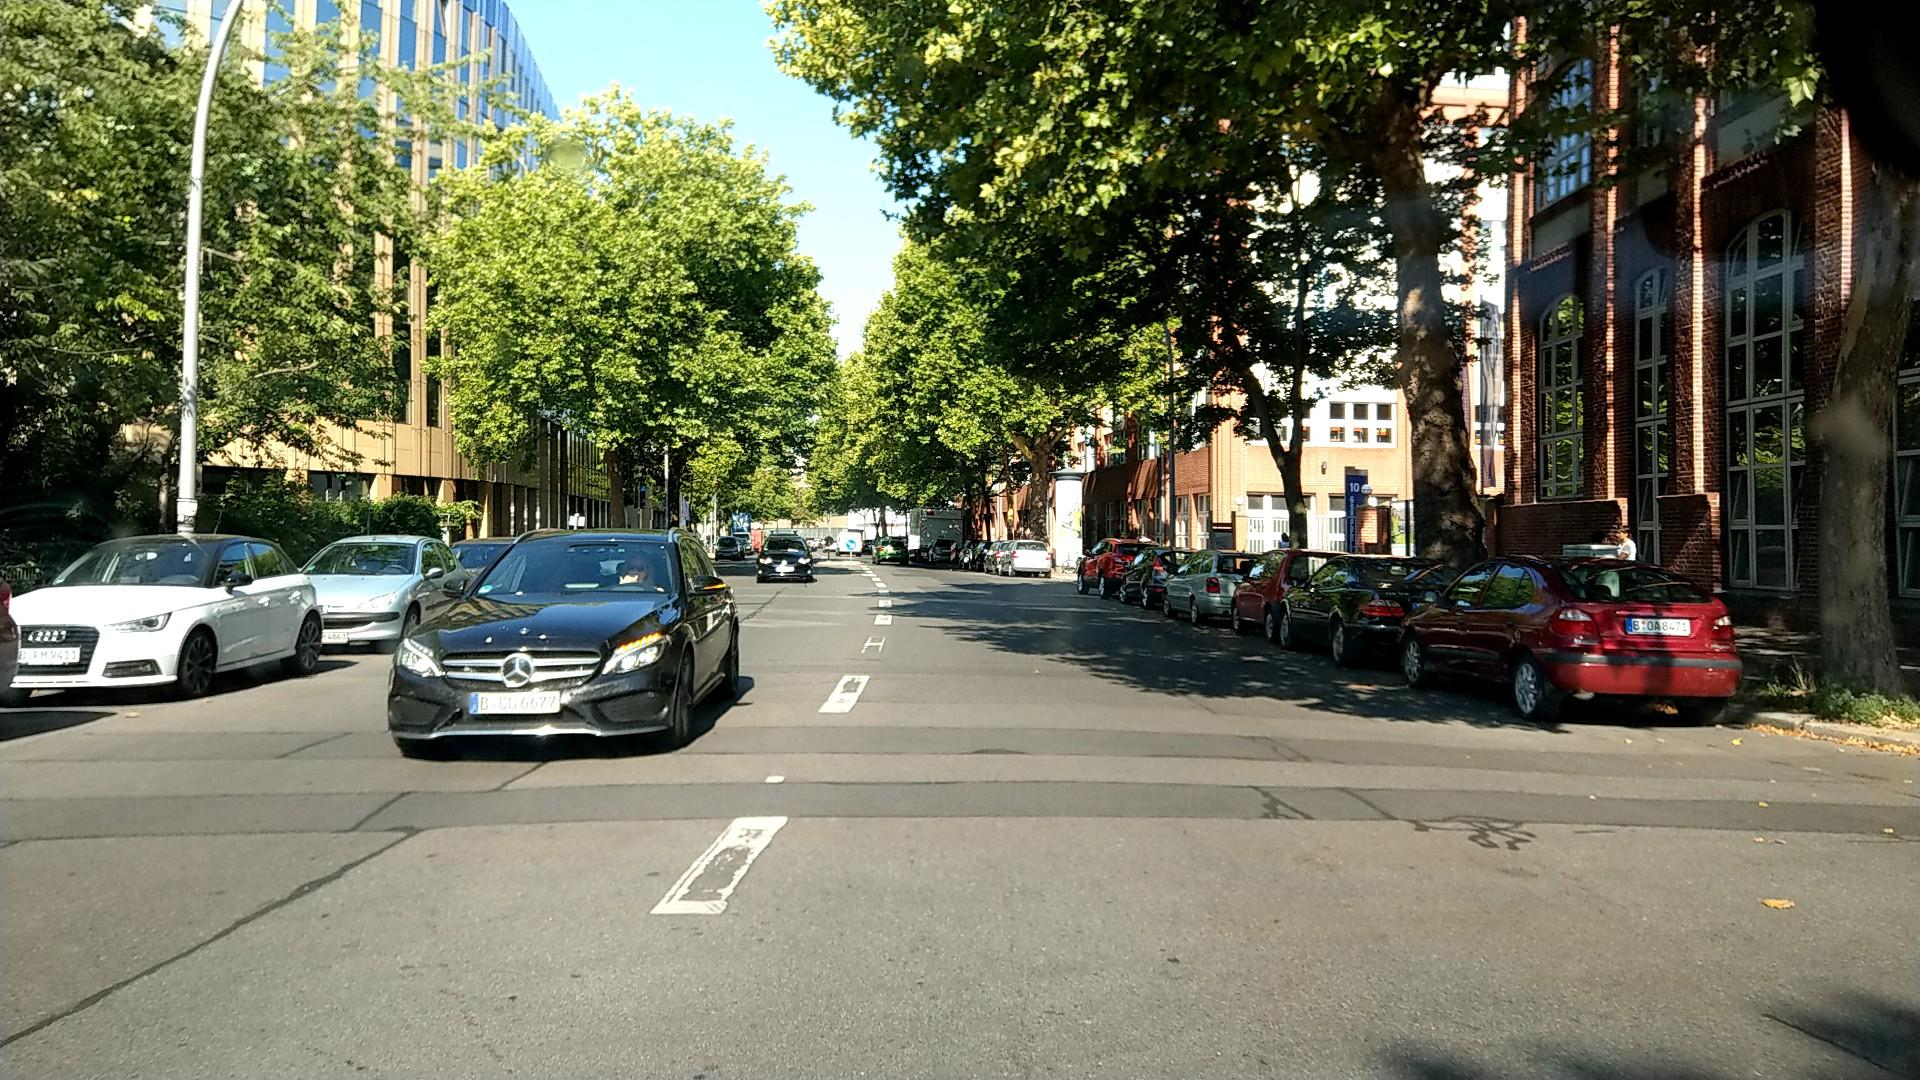Human face: (619, 549, 653, 584), (1614, 526, 1629, 540)
Vehicle registration plate: (469, 693, 559, 713), (1626, 617, 1691, 635), (19, 648, 80, 664), (321, 632, 348, 643)
